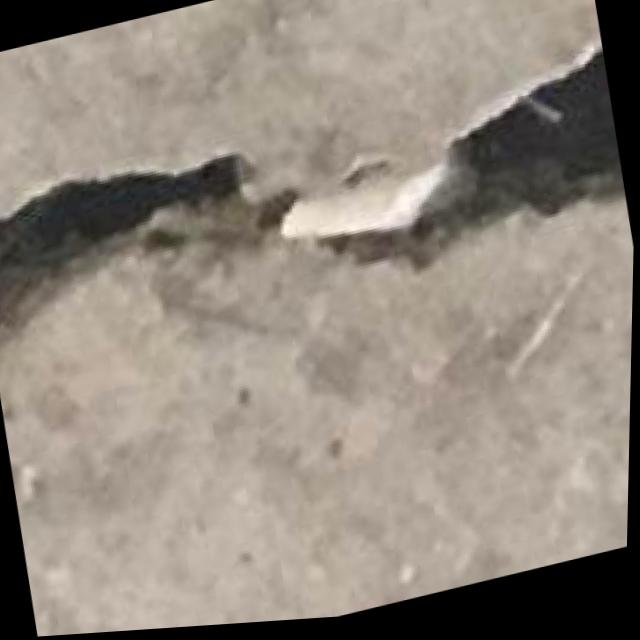Crack: (0, 9, 634, 398)
